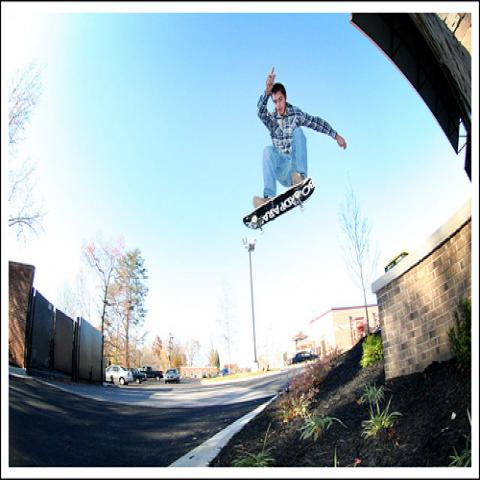car: (106, 365, 134, 386), (140, 366, 164, 383), (129, 367, 147, 384), (292, 350, 310, 364), (164, 369, 180, 383), (218, 368, 232, 376)
